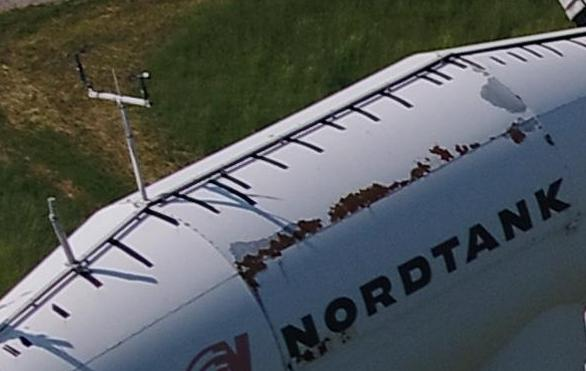damage: (235, 217, 323, 291), (329, 180, 409, 225), (474, 68, 526, 114), (410, 161, 432, 182), (429, 144, 453, 162), (517, 116, 541, 133), (507, 125, 527, 145), (454, 143, 468, 155), (545, 134, 556, 147), (468, 142, 481, 150)
